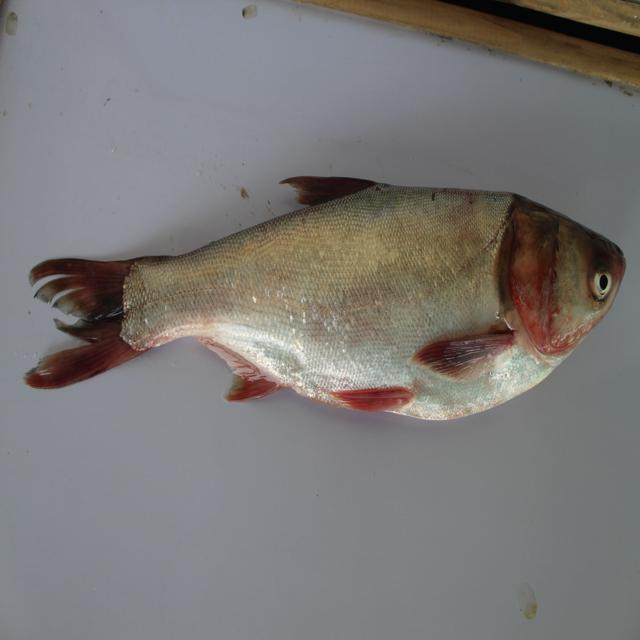SilverCarp: (28, 164, 625, 456)
